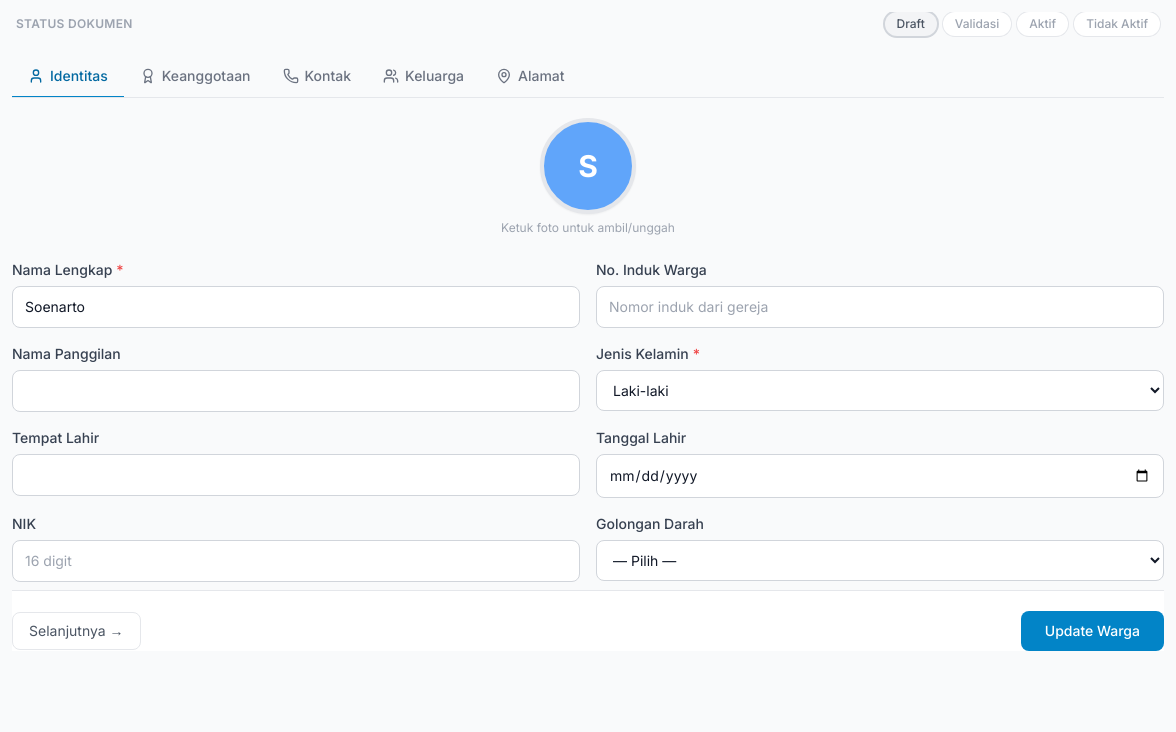
Test: WargaForm — koordinat rumah › input bukan angka memblokir submit dan menampilkan pesan (tidak diam-diam kosong)
Click the button "Alamat": click(530, 77) [480, 56, 581, 98]
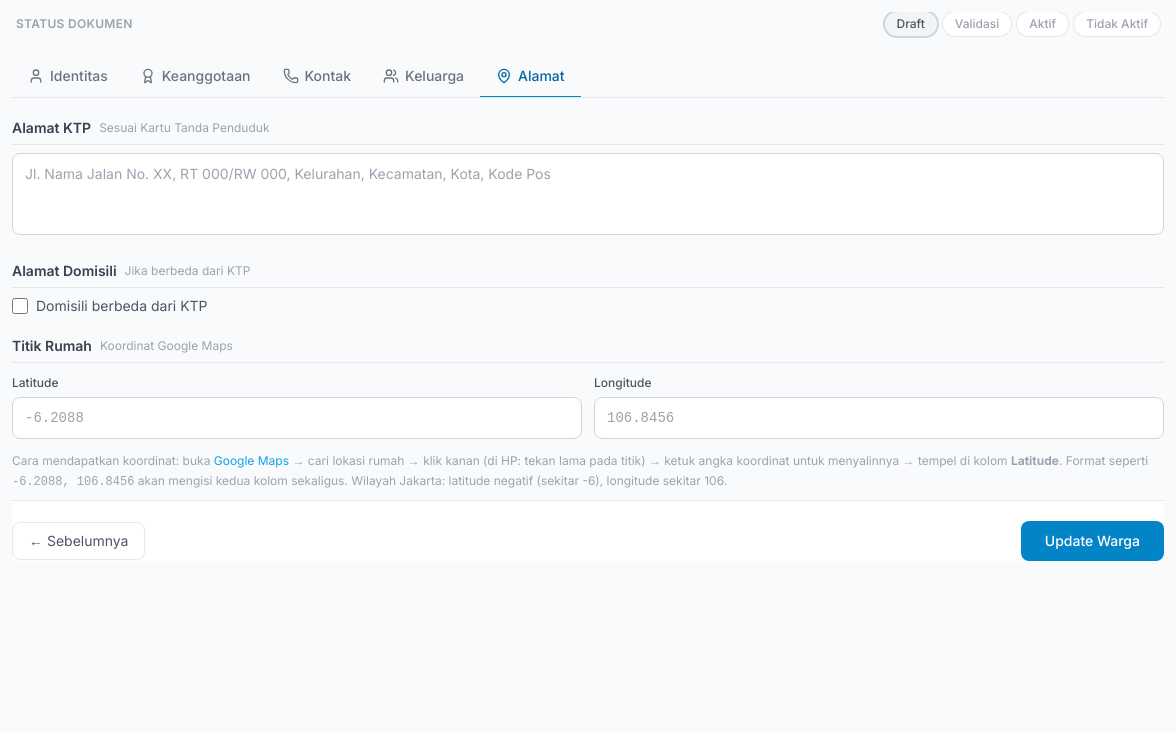
In the field with placeholder "-6.2088": (297, 418) [12, 397, 582, 439], type "enam koma dua"
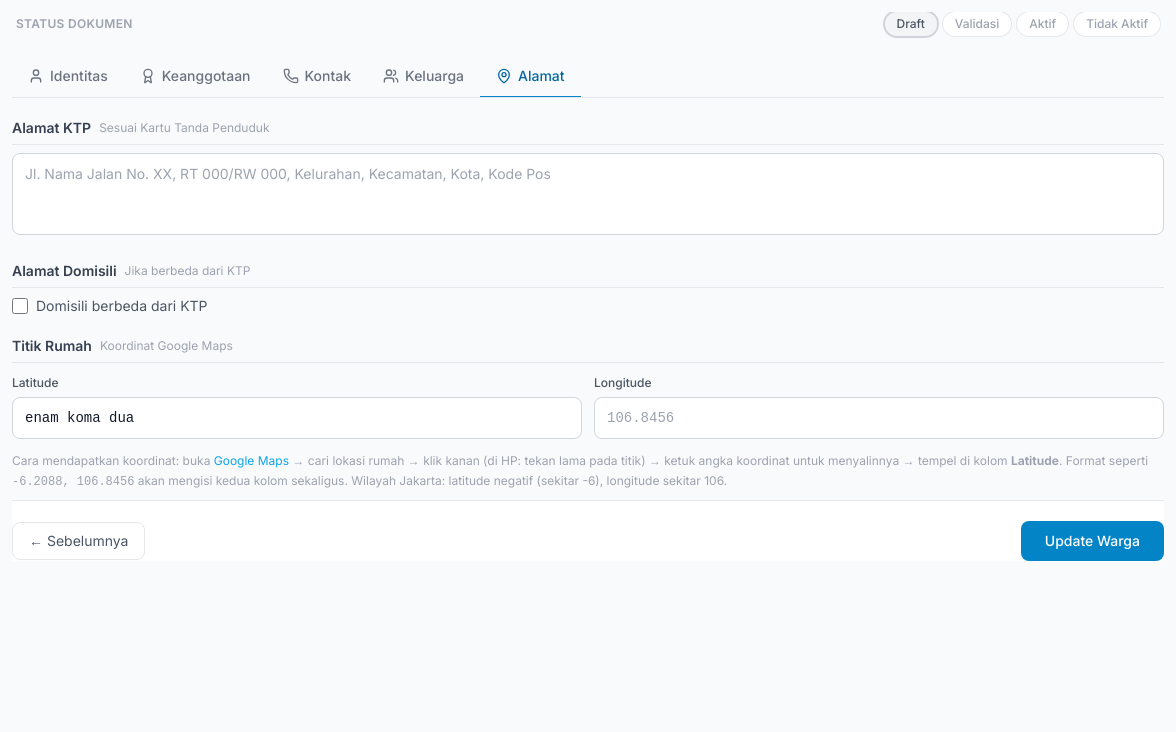
Click the button "Update Warga": click(1092, 541) [1021, 521, 1164, 561]
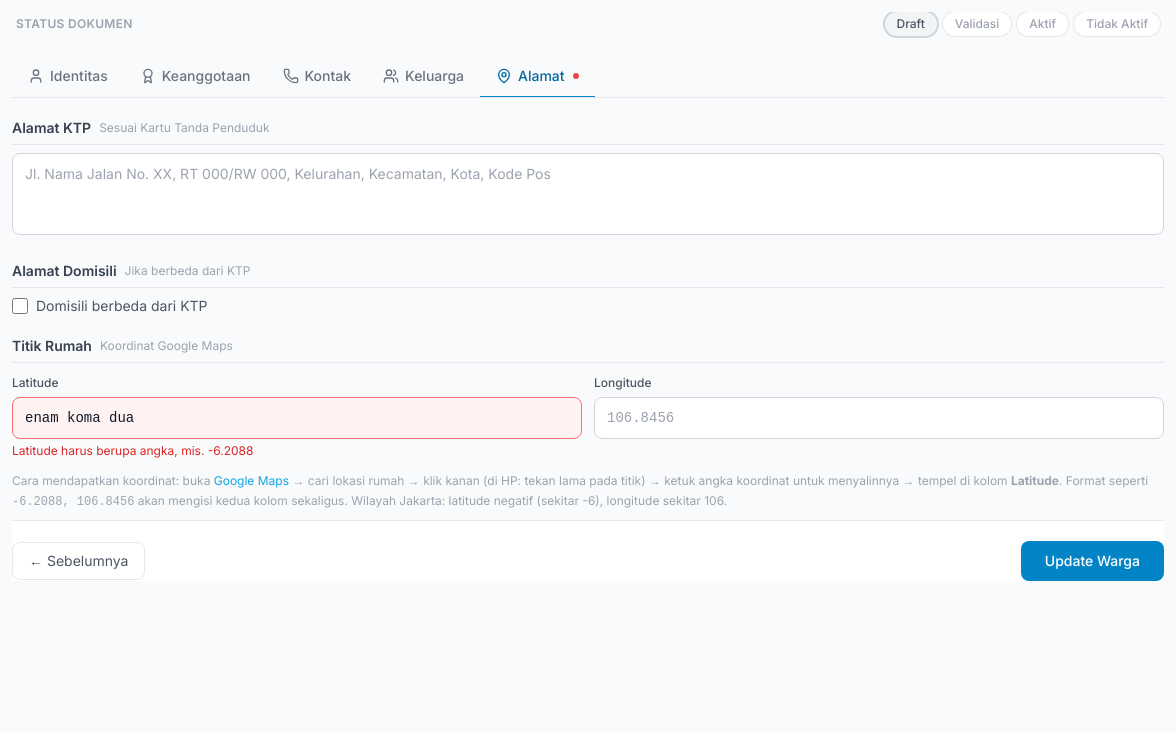
Result: the text "Latitude harus berupa angka, mis. -6.2088" is shown at [12, 443, 254, 458]
